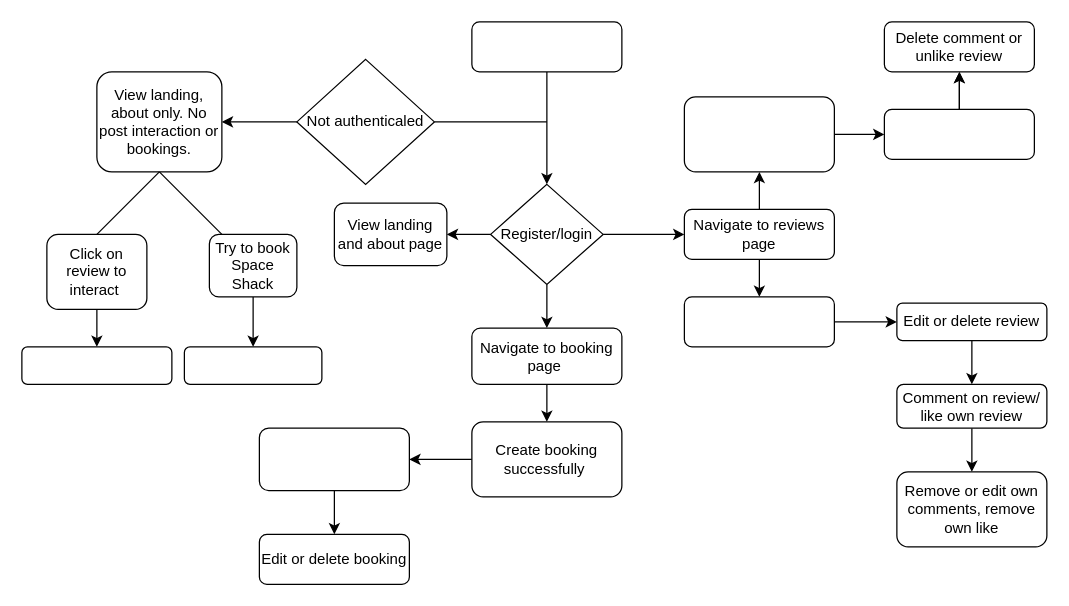
Image size: 1069x606. Some labels were removed from this diagram. Here are the shapes that lost their labels. From the top down, the centre of each, then its label:
At [546,46]: "Site User".
At [758,134]: "View individual reviews on list through button".
At [958,133]: "Comment or like a review".
At [758,321]: "Post a review".
At [96,365]: "Redirect to login/signup".
At [252,365]: "Error message".
At [333,459]: "View booking on My Bookings".
